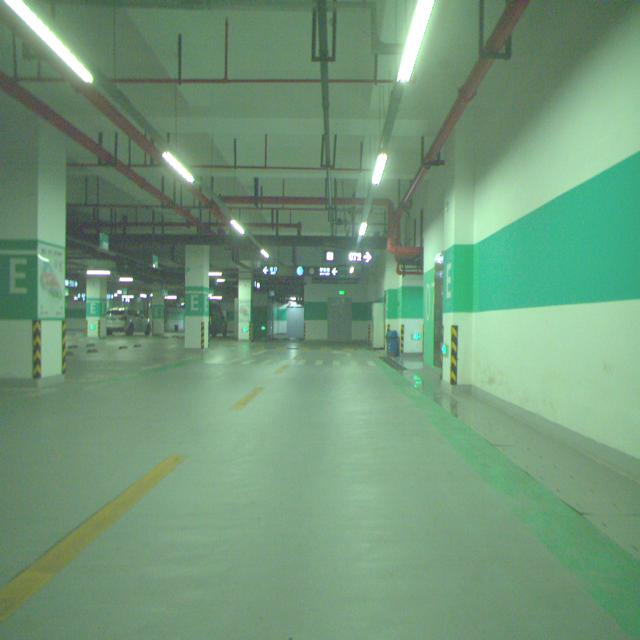pillar: (0, 92, 65, 378), (185, 245, 210, 348), (86, 274, 108, 338)
wall: (442, 194, 474, 384)
